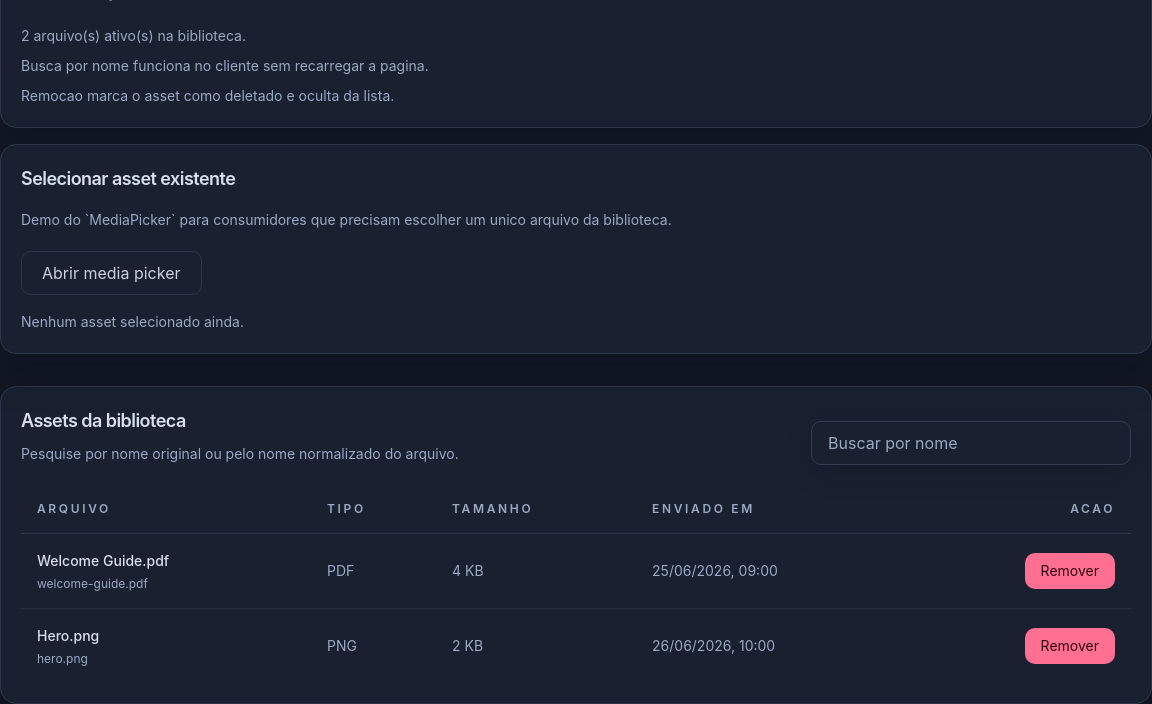
it: MediaLibraryScreen › renders persisted assets, metadata, and filters them by search
(page scrolled)
Check: the text "Welcome Guide.pdf" is shown, box top-left (37, 552), bottom-right (169, 568)
Check: the text "PDF" is shown, box top-left (311, 533), bottom-right (436, 608)
Step 1. Type "hero" into the field named "Buscar arquivos de midia" → (971, 443), box top-left (811, 421), bottom-right (1131, 465)
(page scrolled)
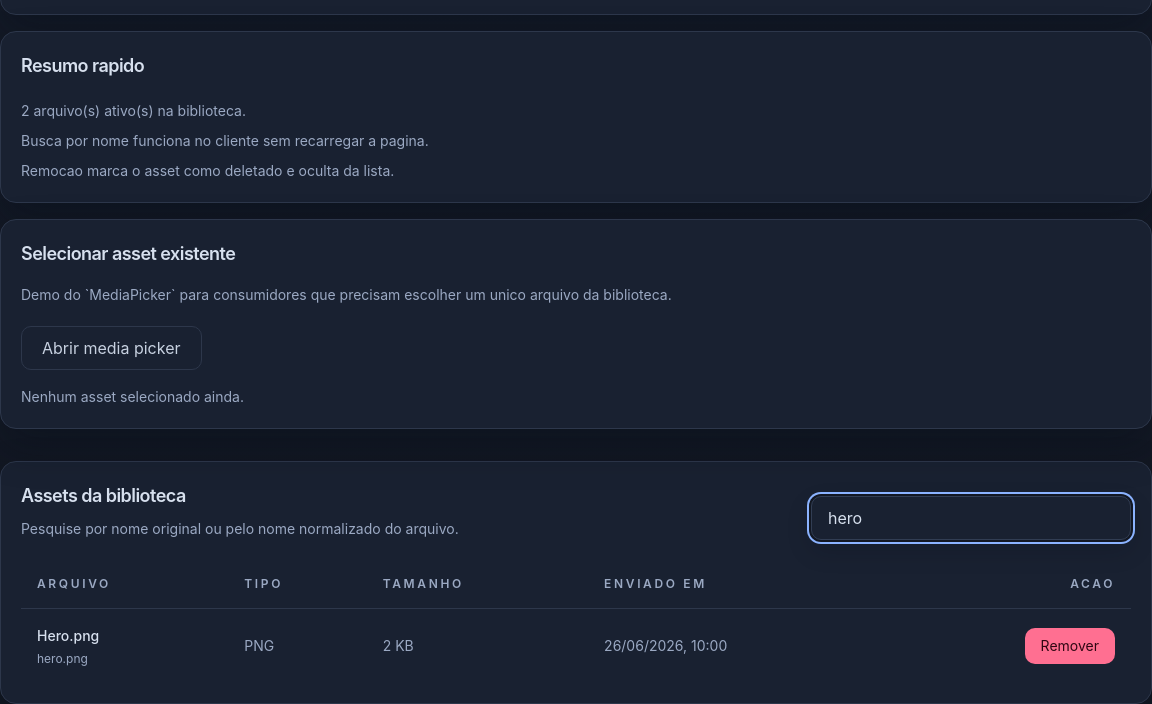
Check: the text "Hero.png" is shown, box top-left (37, 626), bottom-right (99, 644)
Check: the text "Welcome Guide.pdf" is gone
